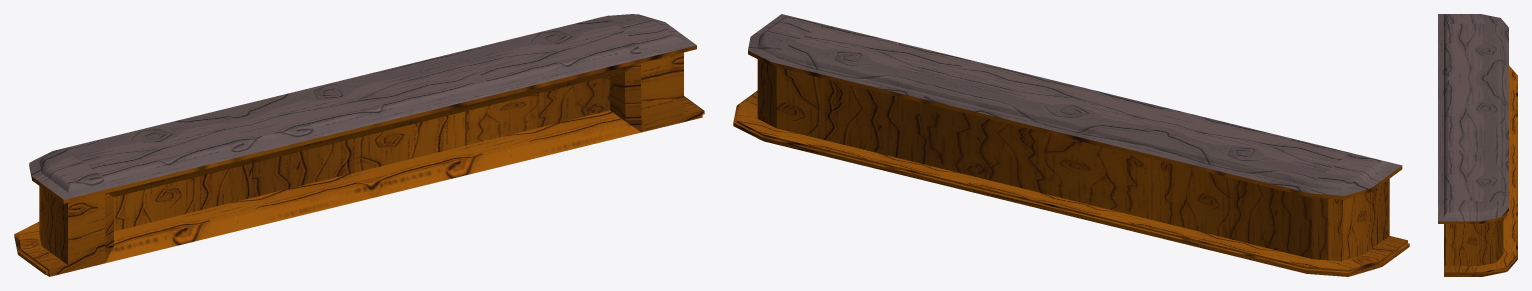
The model's file is bar_mesh.fbx.
3 views of the same model, side by side, from view 1: azimuth 30°, elevation 25°; view 2: azimuth 150°, elevation 25°; view 3: azimuth 270°, elevation 25° (orthographic). The views are drawn at different scales.
Parts seen in each view (by area): view 1: bar_mesh; view 2: bar_mesh; view 3: bar_mesh.
Part boxes in pixels (left/top/right/bottom): bar_mesh: left=14, top=14, right=704, bottom=276; bar_mesh: left=733, top=14, right=1409, bottom=276; bar_mesh: left=1438, top=14, right=1517, bottom=276.
Bounding box in the file's own units: 802 × 99.08 × 125.
